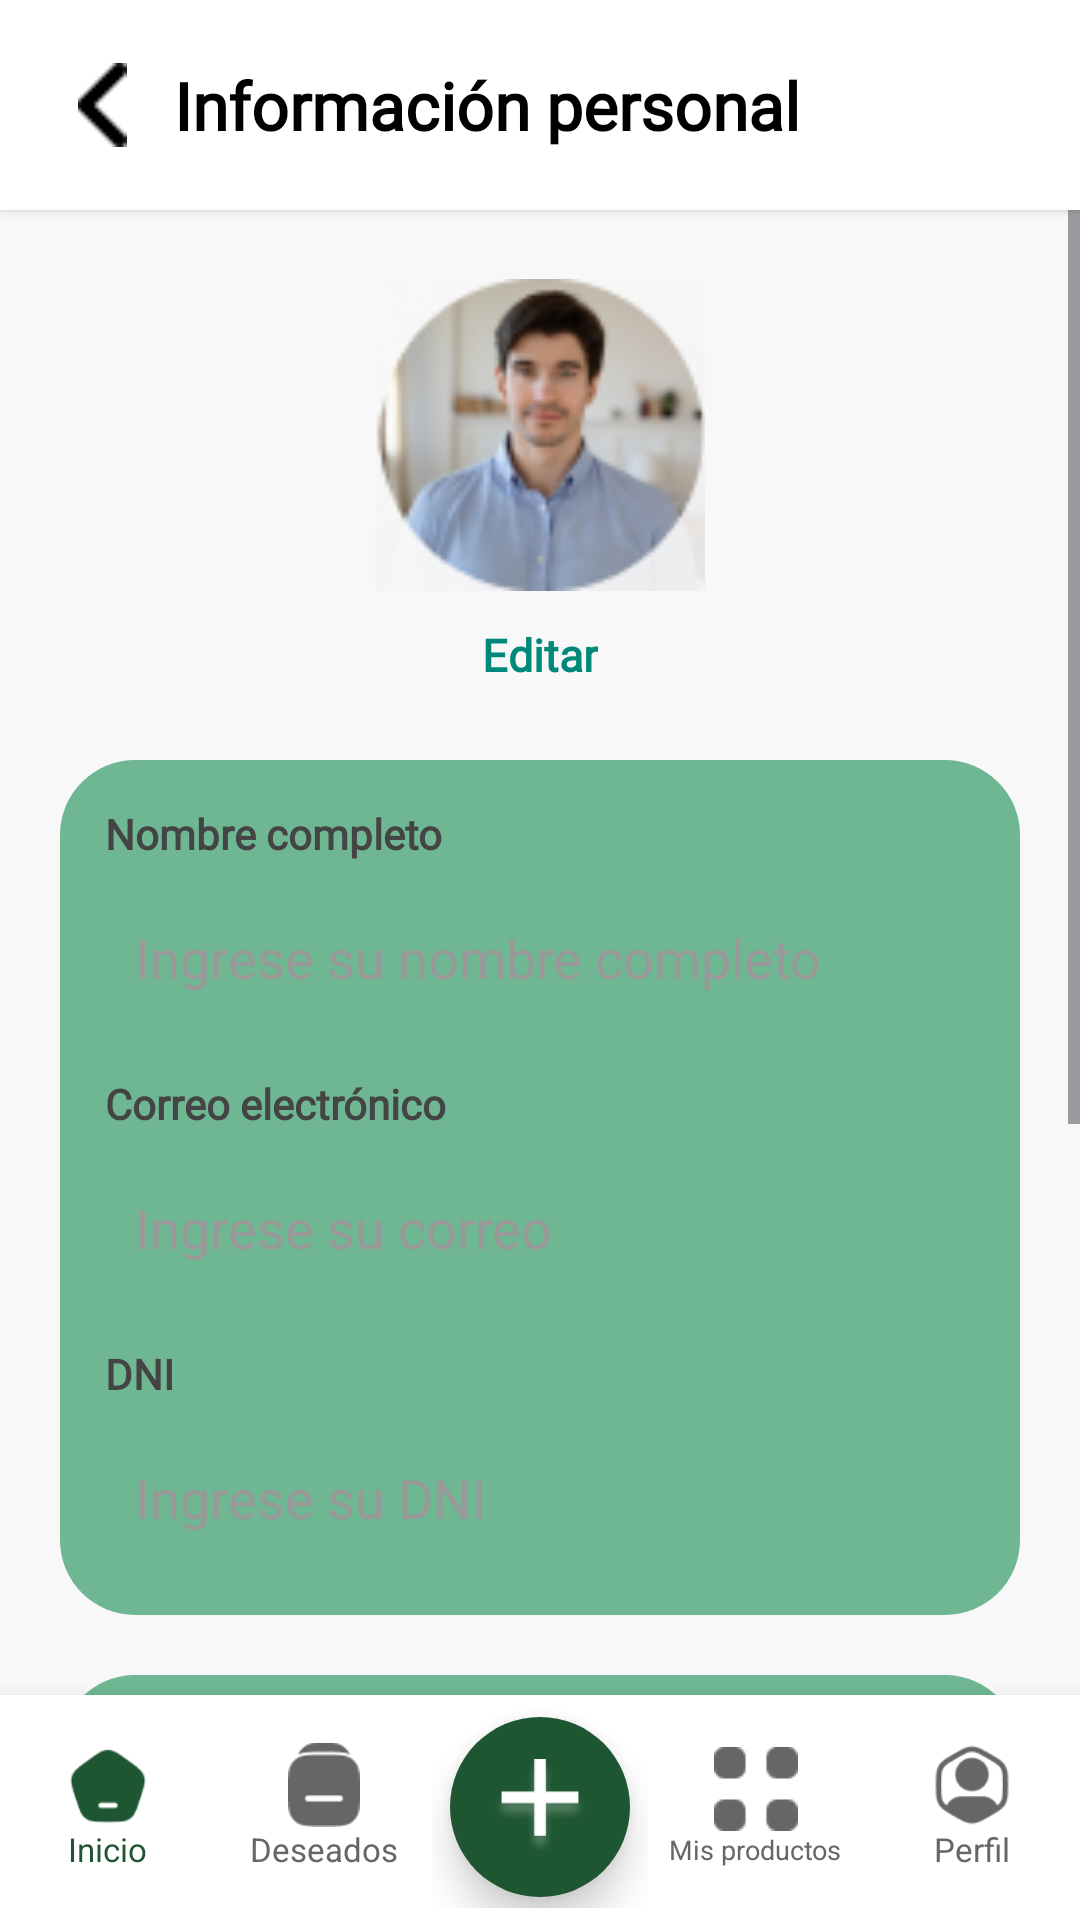

Named icons in this screenshot (1080w x 1920h) and their centers, (x=x, y=y):
back: (x=102, y=105)
Publicar: (x=540, y=1802)
